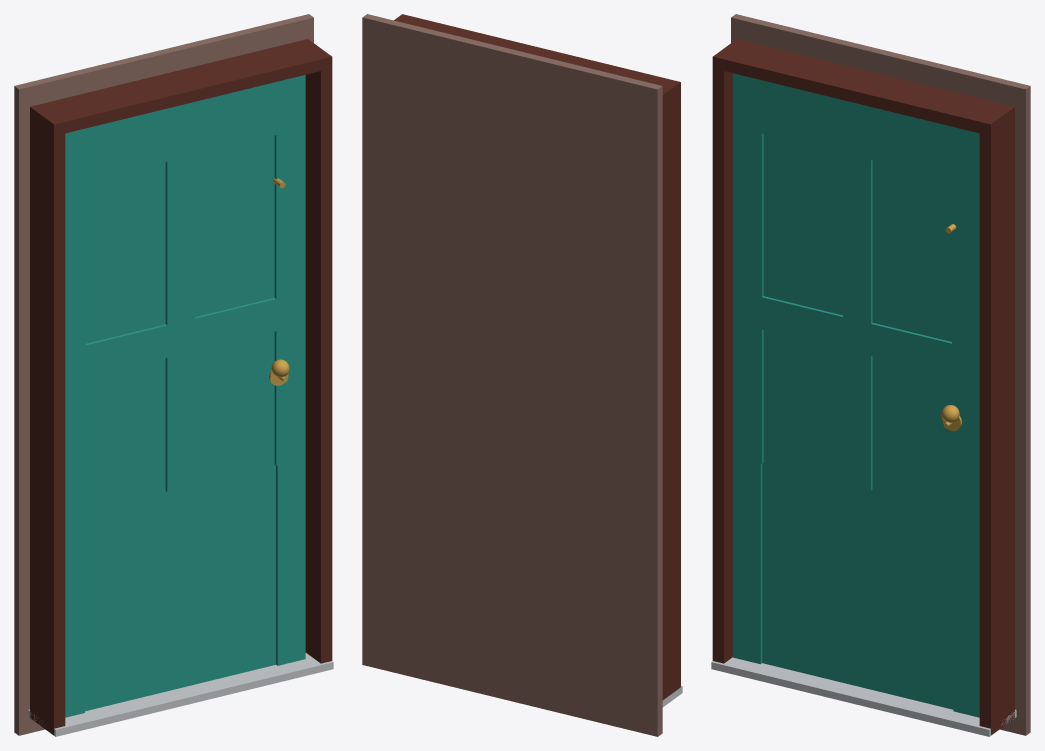
The model's file is apartment_door.glb.
The picture shows the model from 3 angles, left to right: view 1: azimuth 30°, elevation 25°; view 2: azimuth 150°, elevation 25°; view 3: azimuth 330°, elevation 25°; orthographic projection.
Parts seen in each view (by area): view 1: leaf_slab, jamb_left, wall_band, jamb_left.001, head, threshold; view 2: wall_band, jamb_left, head; view 3: leaf_slab, jamb_left.001, wall_band, jamb_left, head, threshold.
Boxes of the visible parts, bbox=[...] form: leaf_slab: bbox=[65, 75, 305, 717]; jamb_left: bbox=[30, 104, 65, 735]; wall_band: bbox=[14, 14, 313, 735]; jamb_left.001: bbox=[299, 39, 332, 663]; head: bbox=[30, 39, 331, 135]; threshold: bbox=[28, 653, 333, 736]; wall_band: bbox=[362, 14, 662, 736]; jamb_left: bbox=[662, 79, 680, 700]; head: bbox=[394, 14, 680, 106]; leaf_slab: bbox=[732, 73, 979, 717]; jamb_left.001: bbox=[979, 105, 1014, 735]; wall_band: bbox=[731, 14, 1030, 735]; jamb_left: bbox=[712, 39, 743, 663]; head: bbox=[712, 39, 1014, 135]; threshold: bbox=[711, 657, 1016, 736].
Bounding box in the file's own units: 1.06 × 2.21 × 0.205.
